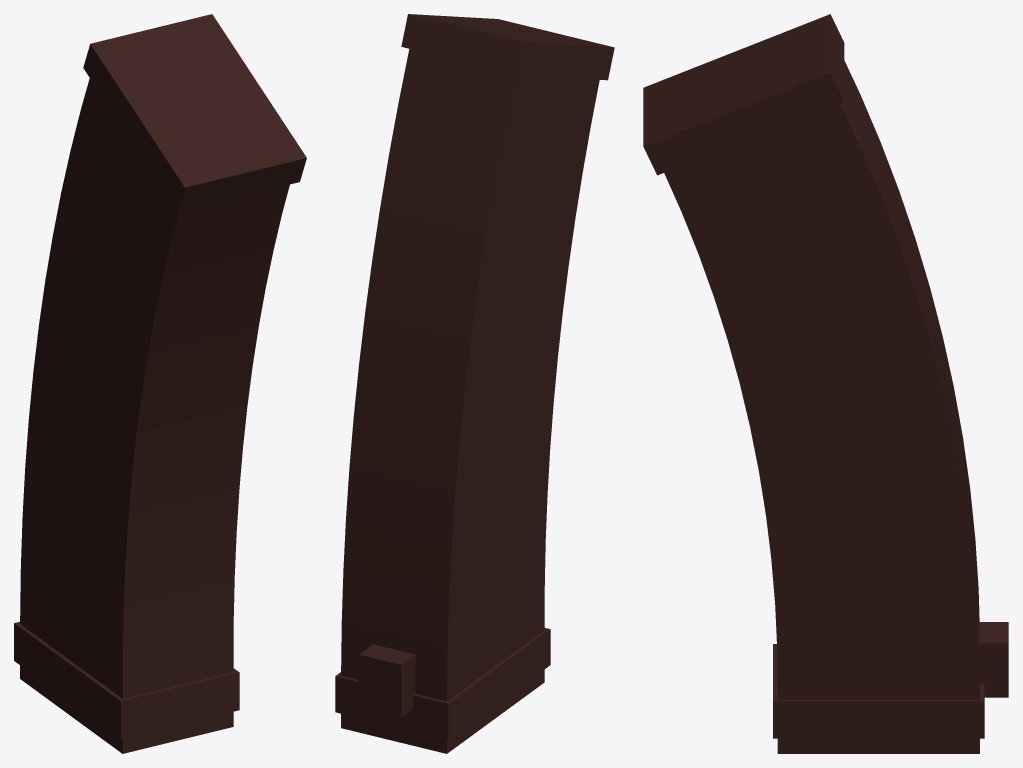
Rendered from ak_mag_60.glb.
3 renders of one model, left to right at view 1: azimuth 30°, elevation 25°; view 2: azimuth 150°, elevation 25°; view 3: azimuth 270°, elevation 25°, orthographic. The views are drawn at different scales.
Parts seen in each view (by area): view 1: mag_body, mag_floor, mag_collar; view 2: mag_body, mag_floor, mag_collar, mag_catch_lug; view 3: mag_body, mag_floor, mag_collar, mag_catch_lug.
Part boxes in pixels (<box>): mag_body: <box>20,78,289,753</box>; mag_floor: <box>83,14,306,211</box>; mag_collar: <box>14,621,239,738</box>; mag_body: <box>341,49,599,753</box>; mag_floor: <box>401,14,614,80</box>; mag_collar: <box>335,628,550,739</box>; mag_catch_lug: <box>359,644,415,717</box>; mag_body: <box>664,60,979,753</box>; mag_floor: <box>643,14,844,175</box>; mag_collar: <box>773,644,984,738</box>; mag_catch_lug: <box>979,622,1008,697</box>.
Bounding box in the file's own units: 0.044 × 0.2384 × 0.1154.
